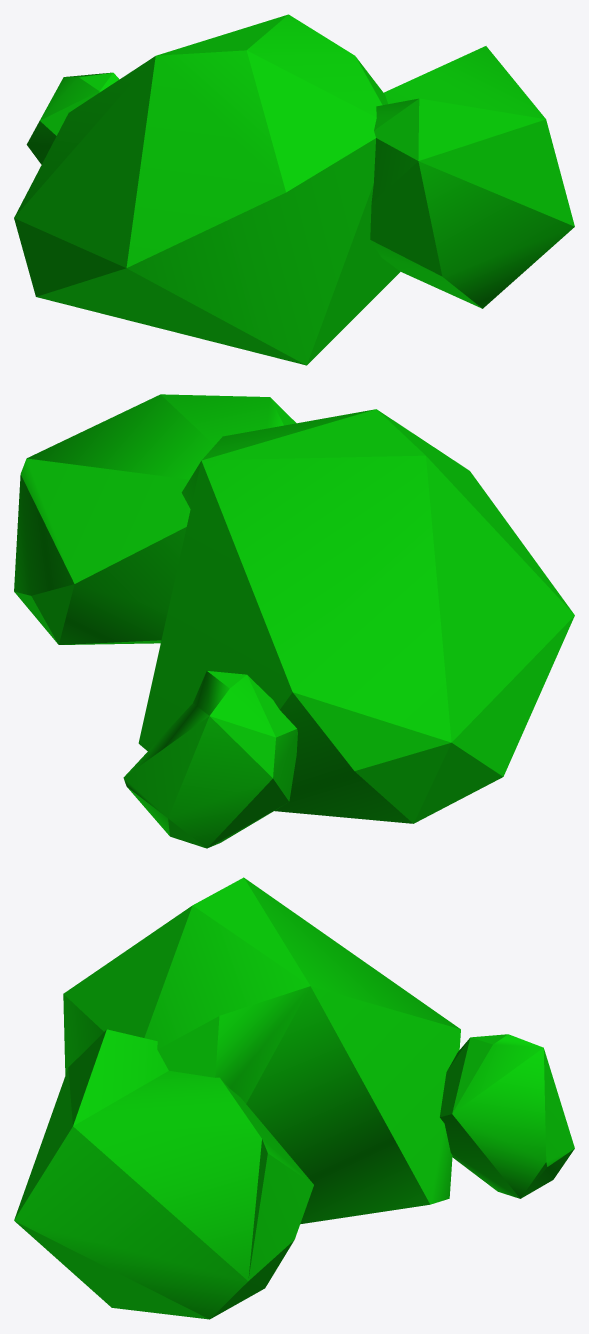
The model's file is plant2.fbx.
The picture shows the model from 3 angles, top to bottom: view 1: azimuth 30°, elevation 25°; view 2: azimuth 150°, elevation 25°; view 3: azimuth 270°, elevation 25°; orthographic projection. The views are drawn at different scales.
Parts seen in each view (by area): view 1: Object005, Object009, Object008; view 2: Object005, Object009, Object008; view 3: Object005, Object009, Object008.
Boxes of the visible parts, bbox=[...] form: Object005: bbox=[14, 14, 400, 365]; Object009: bbox=[370, 46, 574, 308]; Object008: bbox=[26, 72, 119, 164]; Object005: bbox=[138, 409, 574, 823]; Object009: bbox=[14, 394, 296, 644]; Object008: bbox=[123, 671, 297, 848]; Object005: bbox=[63, 877, 460, 1224]; Object009: bbox=[14, 1029, 313, 1319]; Object008: bbox=[440, 1034, 574, 1198].
Bounding box in the file's own units: 12.79 × 7.59 × 12.91.
